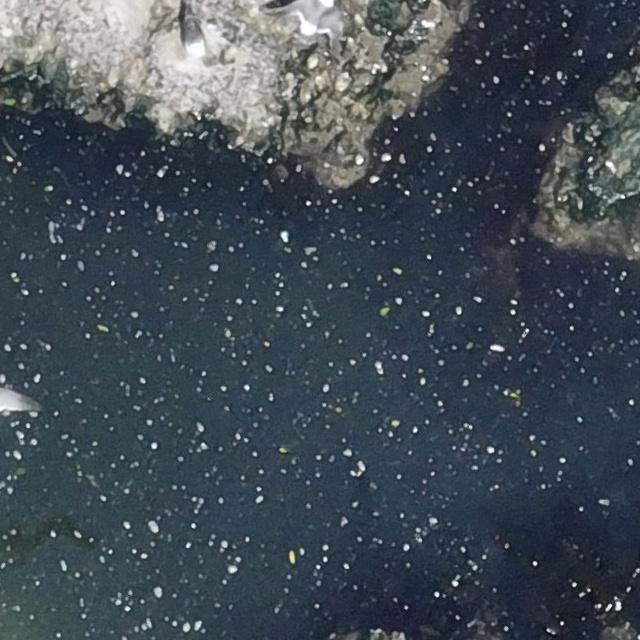F: (268, 2, 342, 42)
umineko: (182, 10, 204, 56)
